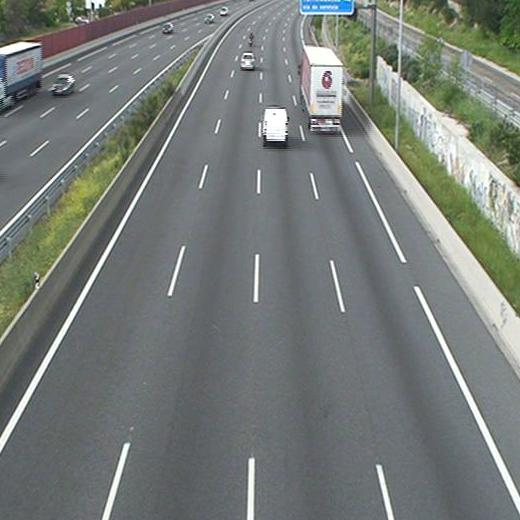car: (240, 53, 255, 68)
motorcycle: (247, 29, 256, 48)
truck: (302, 46, 341, 132)
van: (262, 108, 288, 142)
